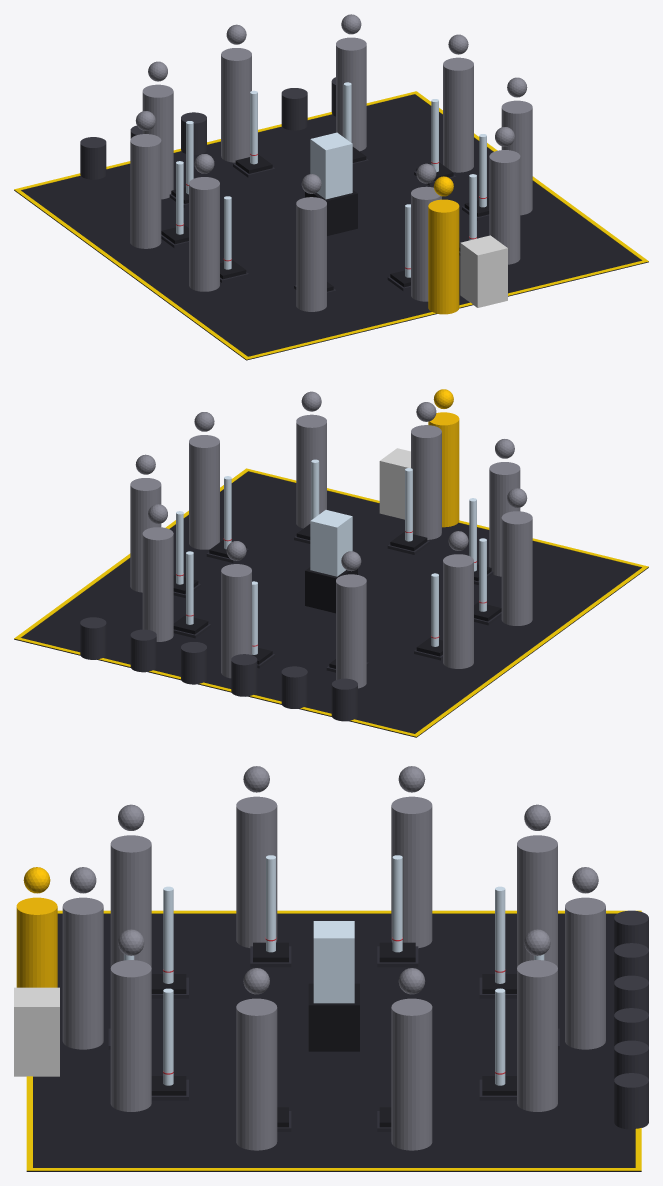
File: G08_THE_WELL.obj
The picture shows the model from 3 angles, top to bottom: view 1: azimuth 30°, elevation 25°; view 2: azimuth 150°, elevation 25°; view 3: azimuth 270°, elevation 25°; orthographic projection. The views are drawn at different scales.
Parts seen in each view (by area): view 1: floor_area, operator_body, player_7_body, player_9_body, player_8_body, player_3_body, player_5_body, player_1_body, counting_tray, player_4_body, well_acrylic, player_2_body (+18 smaller); view 2: floor_area, player_8_body, player_7_body, player_2_body, player_4_body, player_0_body, player_6_body, player_5_body, player_1_body, well_acrylic, operator_body, player_3_body (+21 smaller); view 3: floor_area, player_3_body, player_0_body, player_2_body, player_1_body, player_5_body, player_4_body, player_7_body, player_8_body, player_9_body, player_6_body, counting_tray (+23 smaller).
Boxes of the visible parts, x1,y1,x2,y2 form: floor_area: [14, 94, 648, 360]; operator_body: [428, 199, 459, 314]; player_7_body: [130, 134, 161, 248]; player_9_body: [296, 197, 326, 311]; player_8_body: [189, 177, 219, 291]; player_3_body: [443, 57, 473, 172]; player_5_body: [221, 48, 251, 162]; player_1_body: [489, 150, 520, 264]; counting_tray: [460, 235, 507, 307]; player_4_body: [336, 37, 366, 151]; well_acrylic: [310, 132, 352, 199]; player_2_body: [501, 100, 532, 215]; floor_area: [14, 471, 648, 737]; player_8_body: [501, 511, 532, 625]; player_7_body: [443, 554, 473, 668]; player_2_body: [189, 435, 219, 549]; player_4_body: [142, 527, 173, 641]; player_0_body: [411, 425, 441, 539]; player_6_body: [336, 574, 366, 688]; player_5_body: [221, 564, 251, 678]; player_1_body: [296, 414, 326, 528]; well_acrylic: [310, 510, 352, 576]; operator_body: [428, 412, 459, 527]; player_3_body: [130, 478, 161, 592]; floor_area: [26, 913, 641, 1171]; player_3_body: [391, 998, 432, 1150]; player_0_body: [62, 897, 103, 1049]; player_2_body: [236, 998, 277, 1150]; player_1_body: [110, 960, 151, 1111]; player_5_body: [565, 897, 605, 1049]; player_4_body: [517, 960, 557, 1111]; player_7_body: [391, 796, 432, 948]; player_8_body: [236, 796, 277, 947]; player_9_body: [110, 835, 151, 967]; player_6_body: [517, 835, 557, 967]; counting_tray: [14, 987, 59, 1076].
Bounding box in the file's own units: 6 × 1.87 × 6.19.
